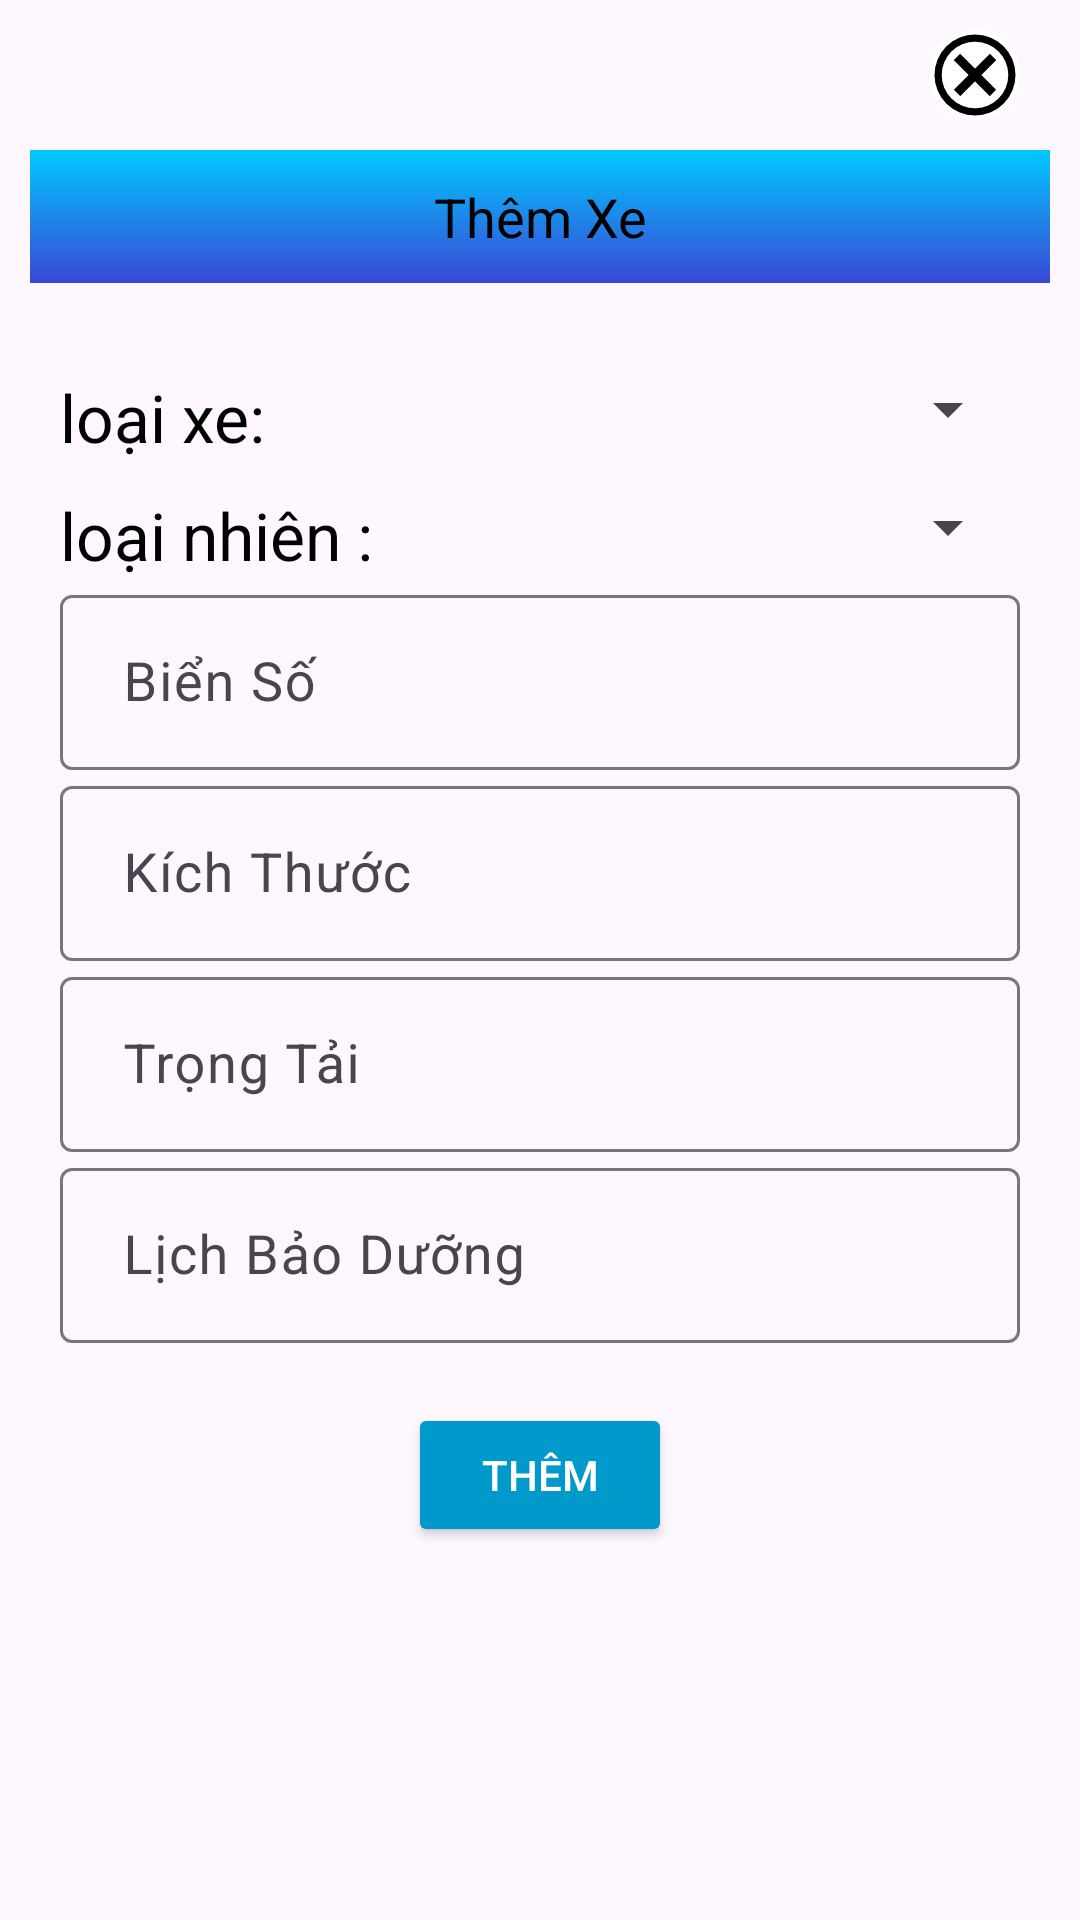

Icons on this 1080 × 1920 Android screen, each with the point to tap as (x,y):
cancel: (975,75)
